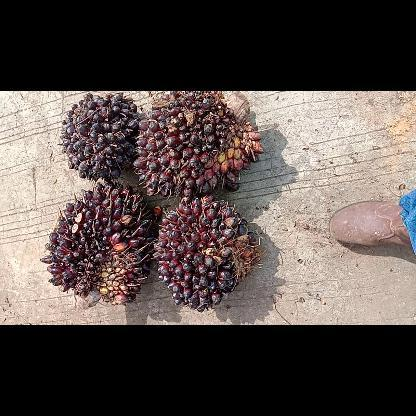TBS mentah: (40, 176, 158, 309), (132, 90, 266, 200), (152, 195, 264, 314), (60, 90, 144, 184)
